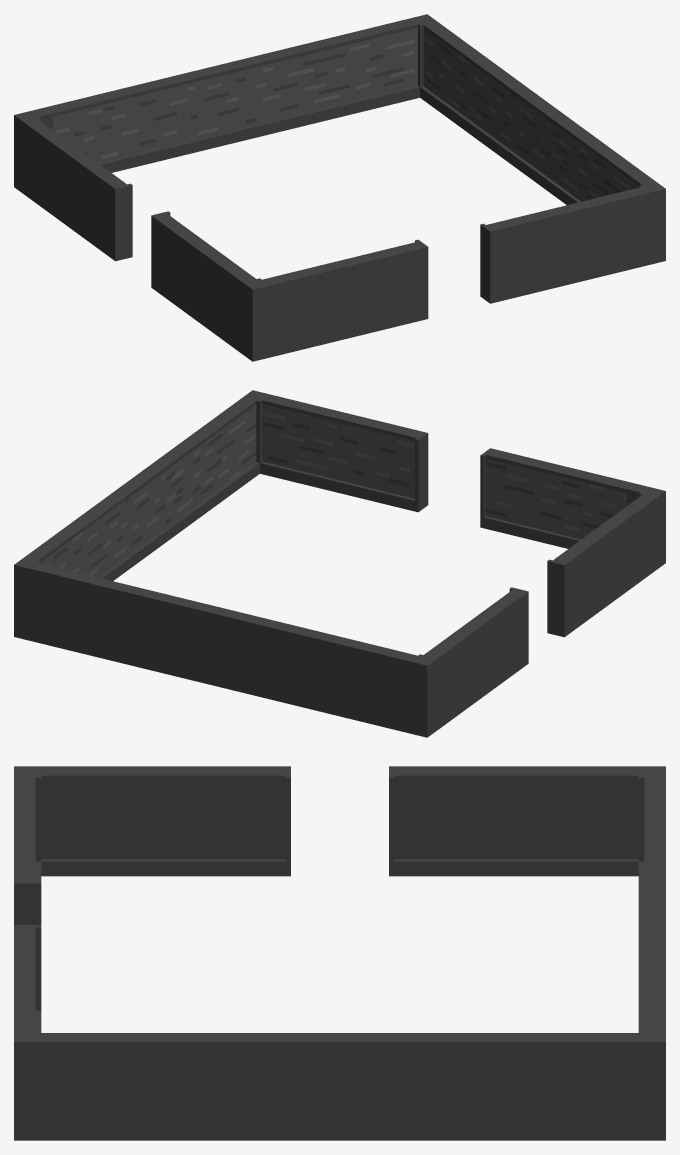
The model's file is 2doorsCorn.obj.
3 views of the same model, one above another, from view 1: azimuth 30°, elevation 25°; view 2: azimuth 150°, elevation 25°; view 3: azimuth 270°, elevation 25° (orthographic). The views are drawn at different scales.
Size of the model in its own units: 12 by 2 by 12.
1 material, 1 textured.
